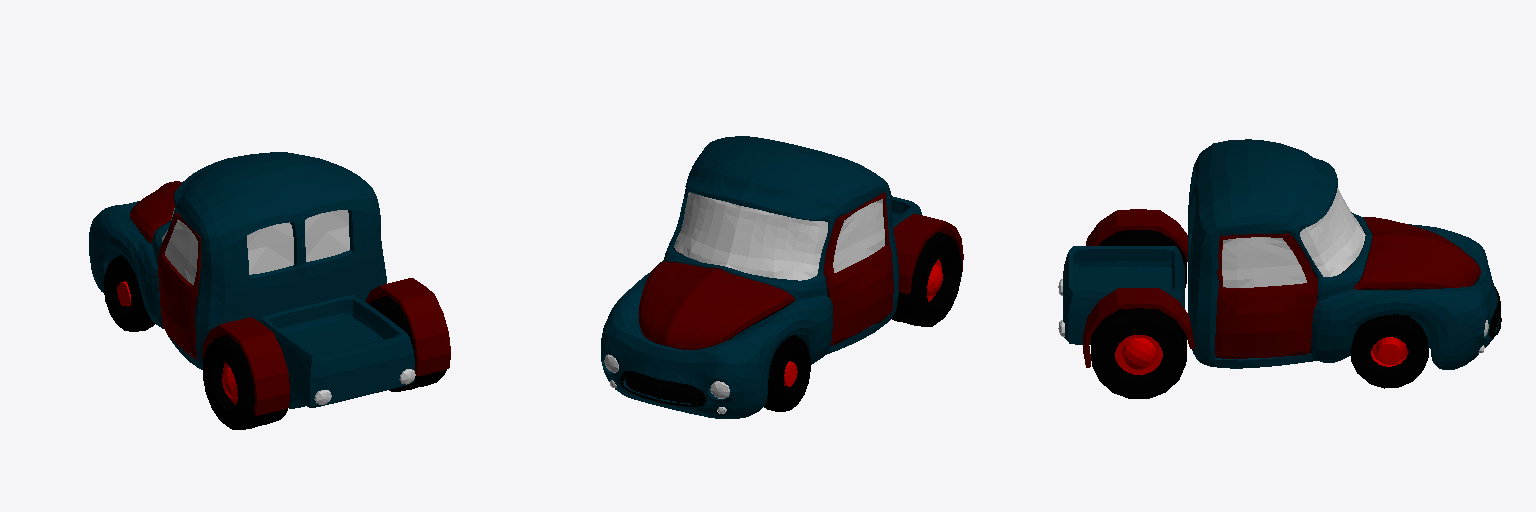
File: a-volvo-duet.obj
The picture shows the model from 3 angles: view 1: azimuth 30°, elevation 25°; view 2: azimuth 150°, elevation 25°; view 3: azimuth 270°, elevation 25°; orthographic projection.
Parts seen in each view (by area): view 1: Car_Body_Plane.009, Mud_Guard_Circle.002, Circle_Circle.006, Back_Glass_Plane.012, Door_R_Plane.007, Front_tire_R_Circle.005, Glass_R_Plane.002, Circle.001_Circle; view 2: Car_Body_Plane.009, Wind_sheild_Plane.003, Door_R_Plane.007, Circle_Circle.006, Front_tire_R_Circle.005, Glass_R_Plane.002, Mud_Guard_Circle.002, Filter_engine_Plane.019; view 3: Car_Body_Plane.009, Doors_L_Plane.014, Circle.001_Circle, Mud_Guard_Circle.002, Front_tire_L_Circle.001, Glass_L_Plane.011, Wind_sheild_Plane.003, Circle_Circle.006.
Part boxes in pixels (x1,y1,x2,y2): Car_Body_Plane.009: (89,152,414,408); Mud_Guard_Circle.002: (202,278,450,415); Circle_Circle.006: (203,335,289,429); Back_Glass_Plane.012: (247,210,349,274); Door_R_Plane.007: (157,213,200,359); Front_tire_R_Circle.005: (104,255,154,331); Glass_R_Plane.002: (165,220,197,284); Circle.001_Circle: (369,296,446,391); Car_Body_Plane.009: (601,136,921,418); Wind_sheild_Plane.003: (674,192,827,280); Door_R_Plane.007: (824,193,893,345); Circle_Circle.006: (892,232,961,326); Front_tire_R_Circle.005: (764,335,810,411); Glass_R_Plane.002: (833,199,884,272); Mud_Guard_Circle.002: (893,214,963,293); Filter_engine_Plane.019: (626,377,697,403); Car_Body_Plane.009: (1063,139,1501,369); Doors_L_Plane.014: (1215,233,1317,359); Circle.001_Circle: (1091,308,1186,398); Mud_Guard_Circle.002: (1083,209,1194,367); Front_tire_L_Circle.001: (1350,314,1428,388); Glass_L_Plane.011: (1222,237,1306,287); Wind_sheild_Plane.003: (1300,188,1365,276); Circle_Circle.006: (1099,230,1186,287).
Size of the model in its own units: 2.63 by 2.37 by 4.92.